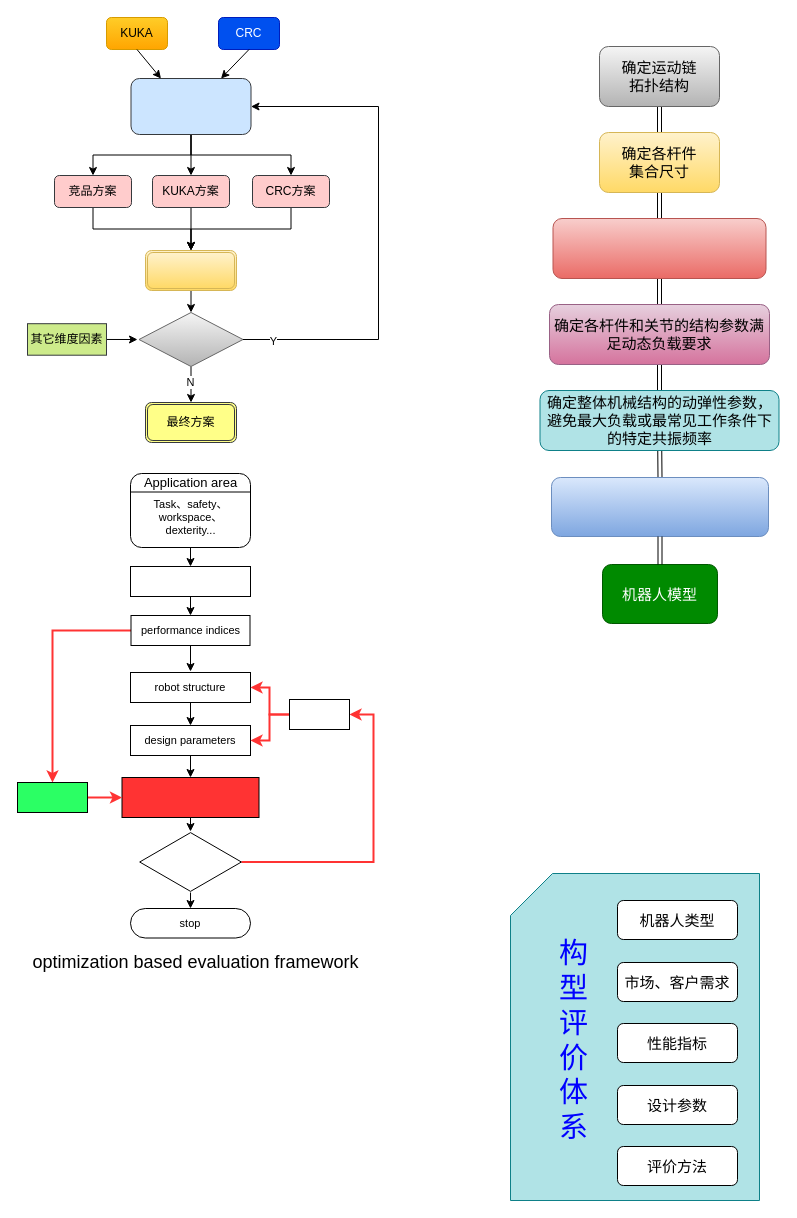
This 797x1218 diagram has some shape labels left out. Here are the shapes that lost their labels. From the top down, the centre of each, then its label:
At pixel 190 106: "构型评价体系".
At pixel 659 248: "确定各杆件和关节的结构参数满足静态负载要求".
At pixel 190 270: "优化方案".
At pixel 190 339: "迭代优化？".
At pixel 659 506: "针对设计中确定的工作条件选择执行器和相应的机械传动形式，来适应任务的不确定性".
At pixel 190 581: "requiremets analysis".
At pixel 319 714: "redesign".
At pixel 52 797: "objectives".
At pixel 190 797: "simulation optimization".
At pixel 190 861: "selection".
